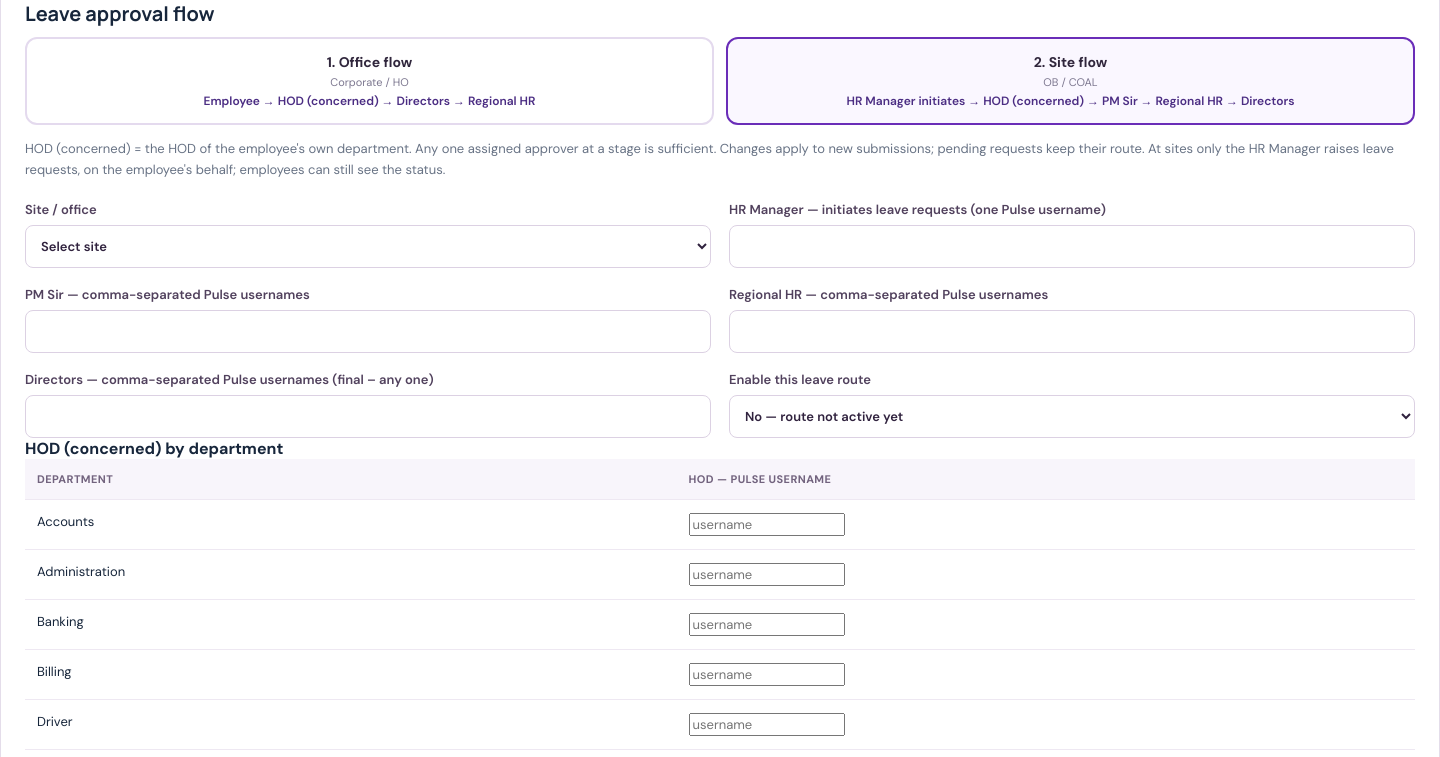
Test: Approval Master leave editor saves the Office / Site flow
Select "Jayant OB" in the dropdown labelled "Site / office" at [368, 246], box [25,225,711,268]
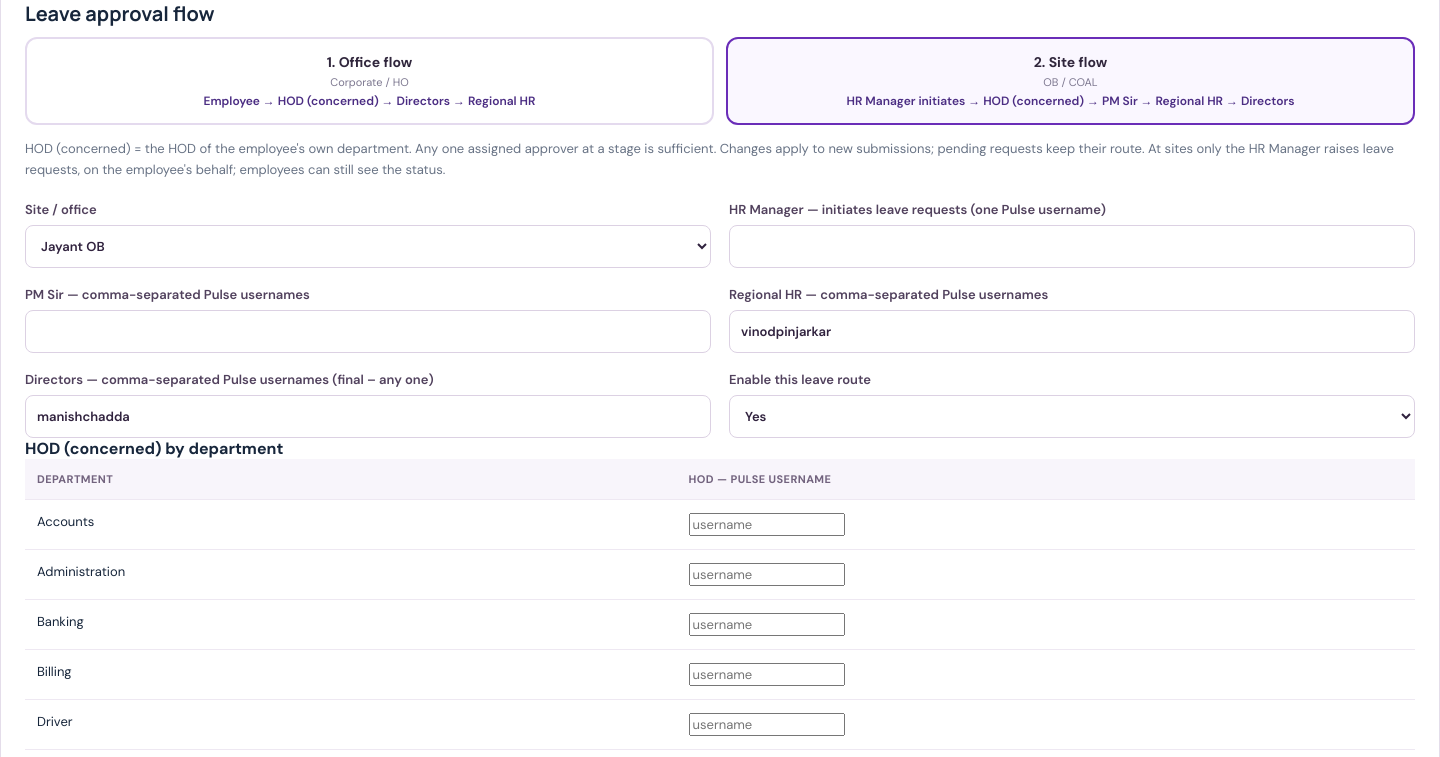
Type "amitsingh" into the field labelled "HR Manager — initiates leave requests (one Pulse username)" at [1072, 246], box [729,225,1415,268]
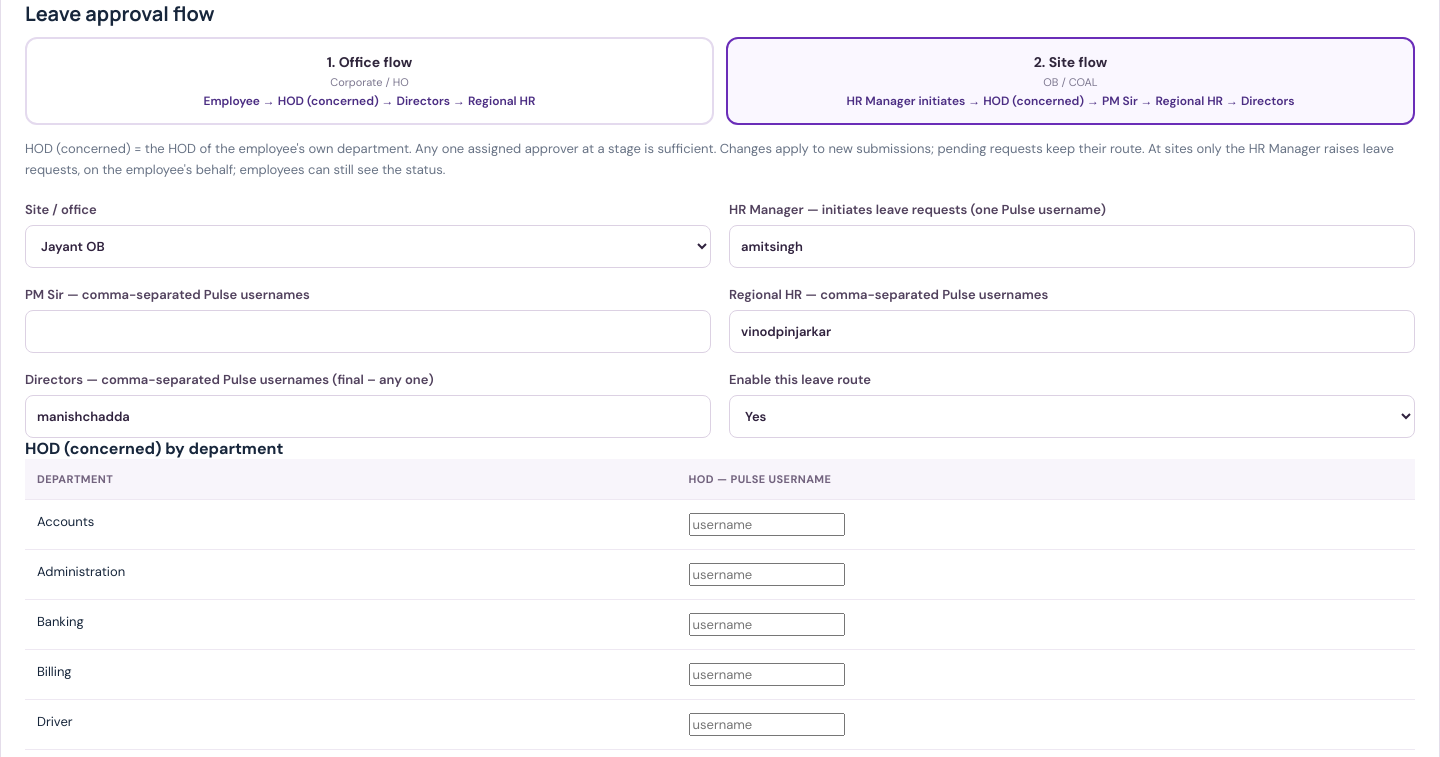
Type "gulnawaz" into the field labelled "PM Sir — comma-separated Pulse usernames" at [368, 331], box [25,310,711,353]
(page scrolled)
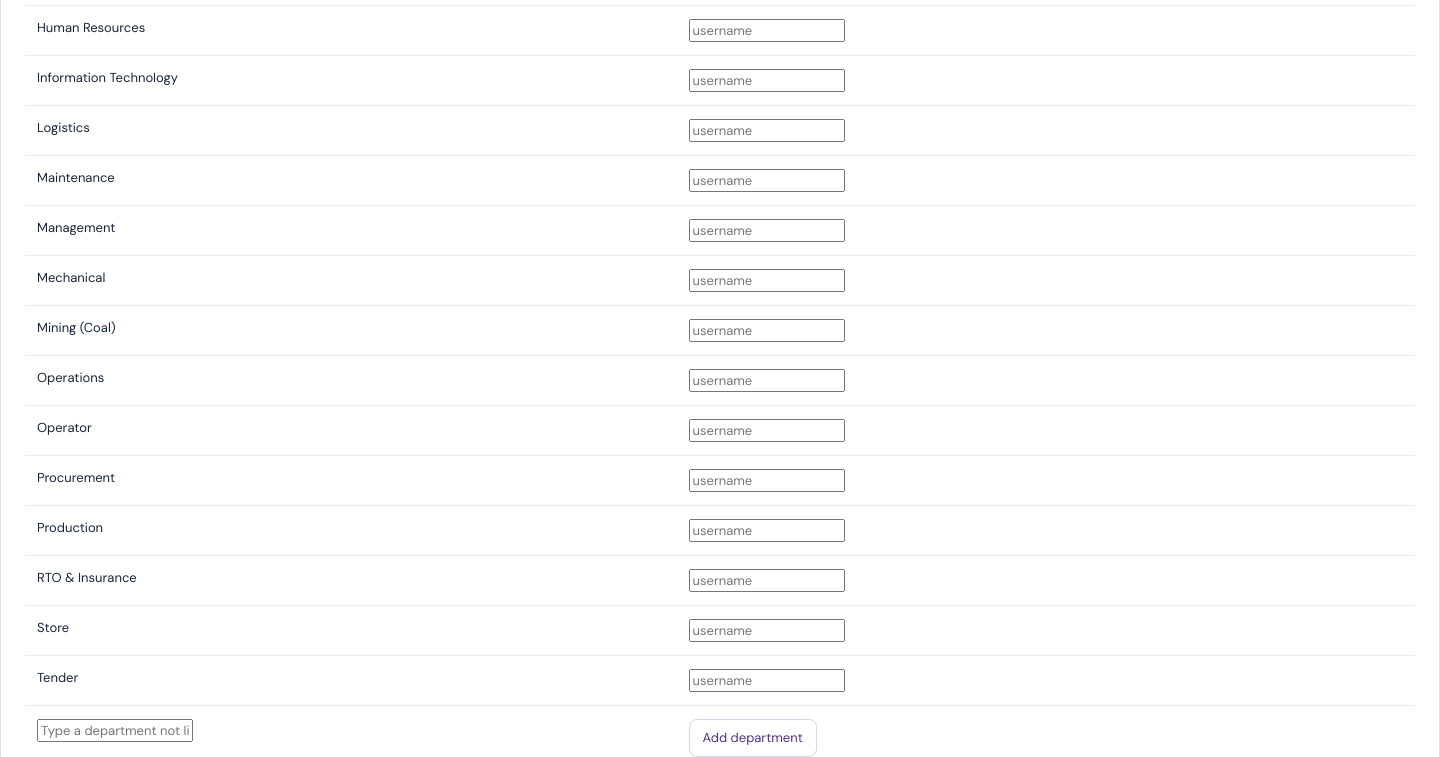
Type "ops.hod" into the field named "HOD for Operations" at [767, 380], box [689,369,845,392]
(page scrolled)
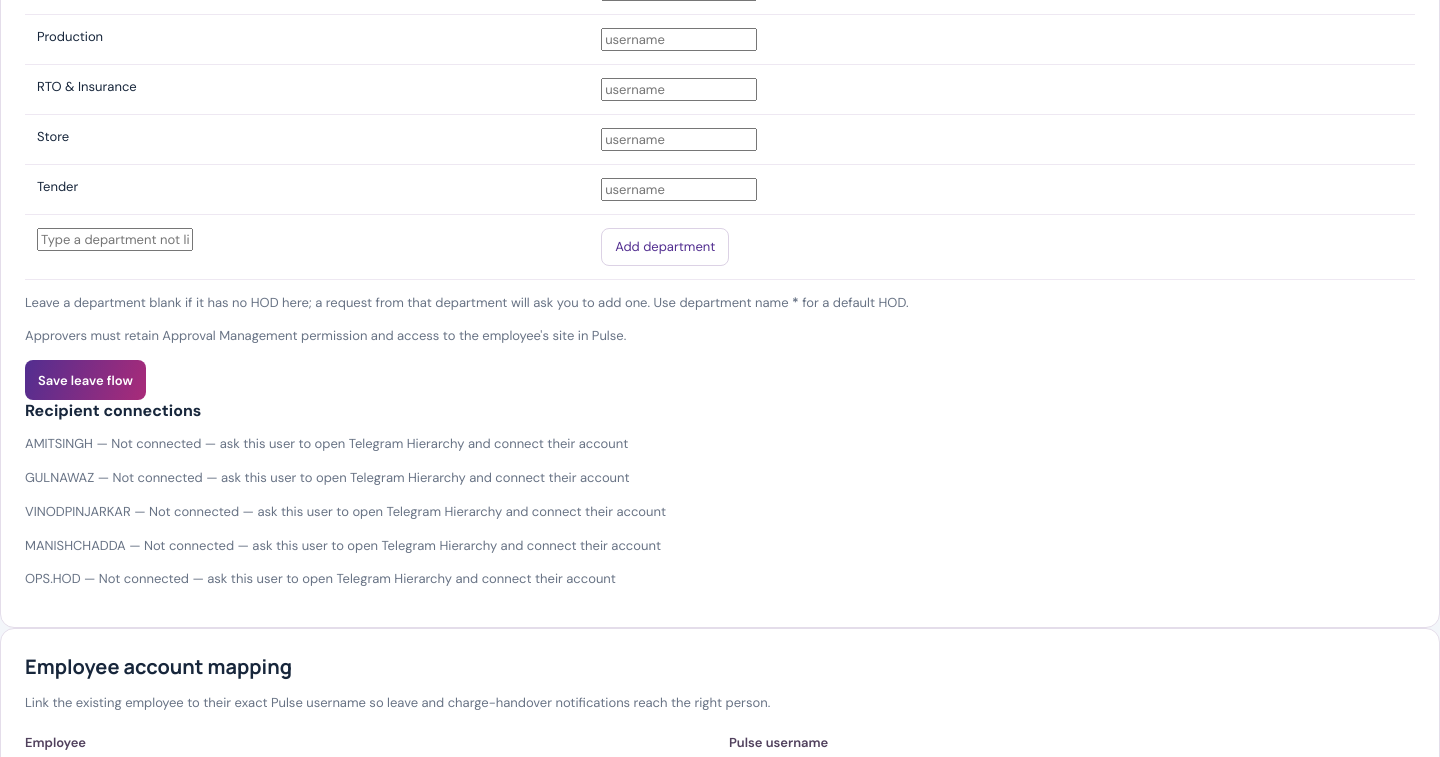
Click the button "Save leave flow" at [85, 380], box [25,360,146,400]
(page scrolled)
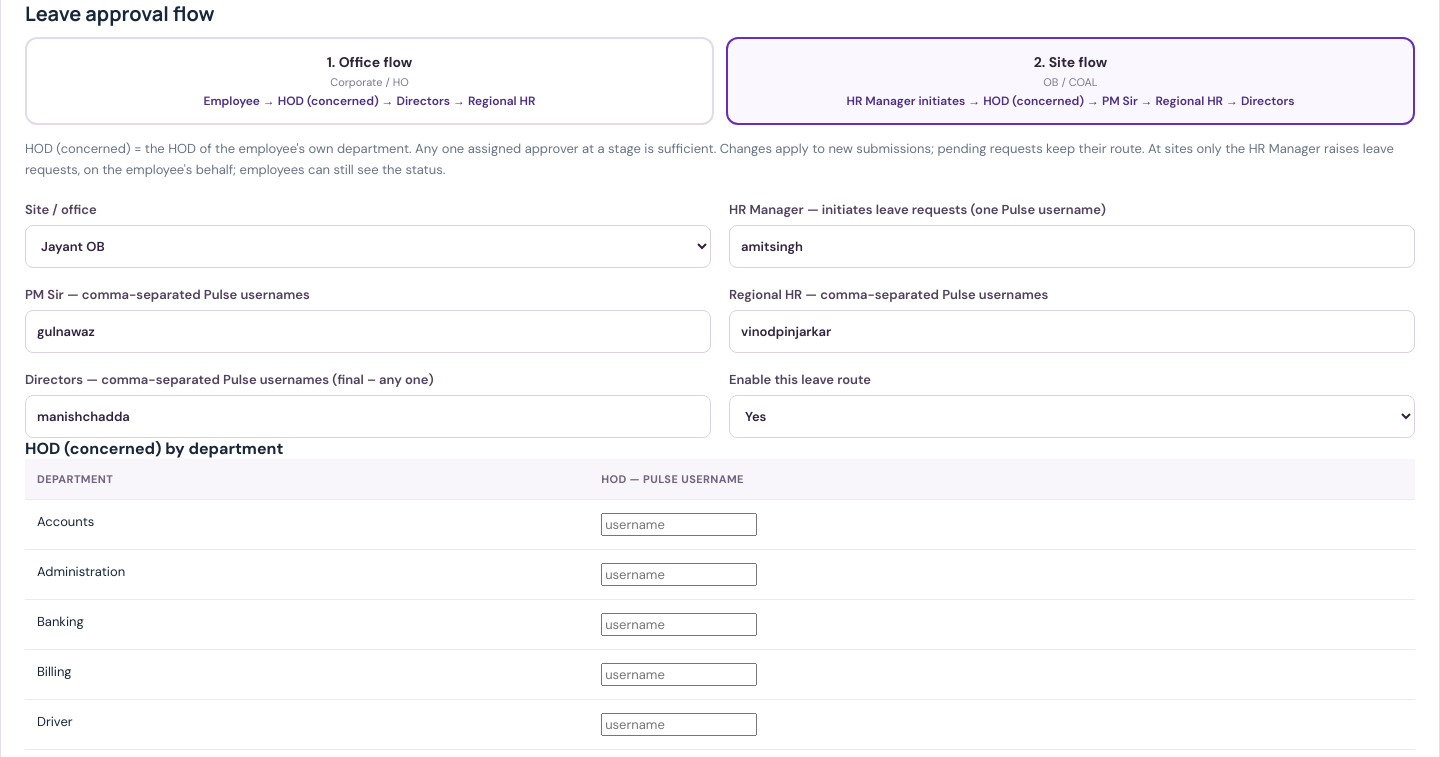
Click the button "1. Office flow" at [370, 81], box [25,37,714,125]
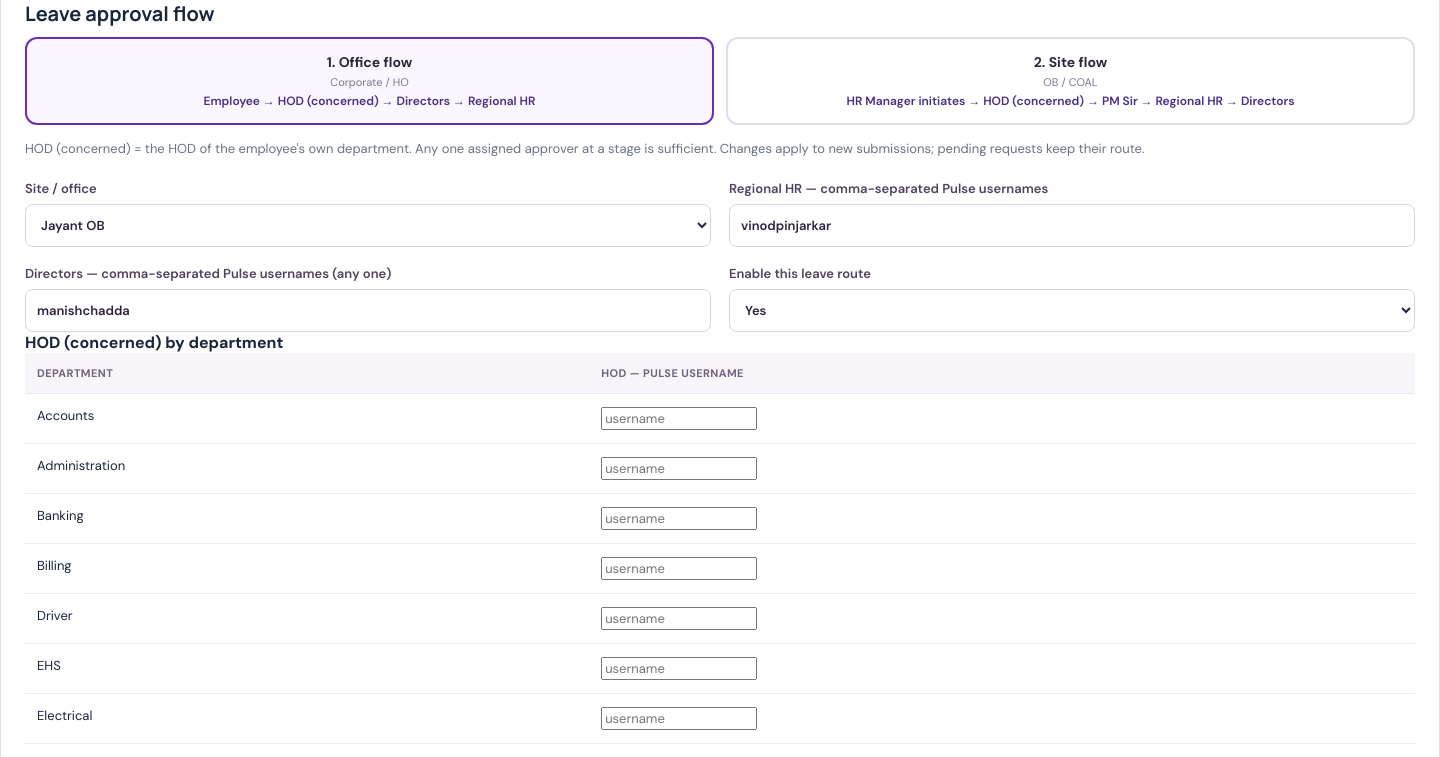
Expected: the label labelled "PM Sir — comma-separated Pulse usernames" is gone
